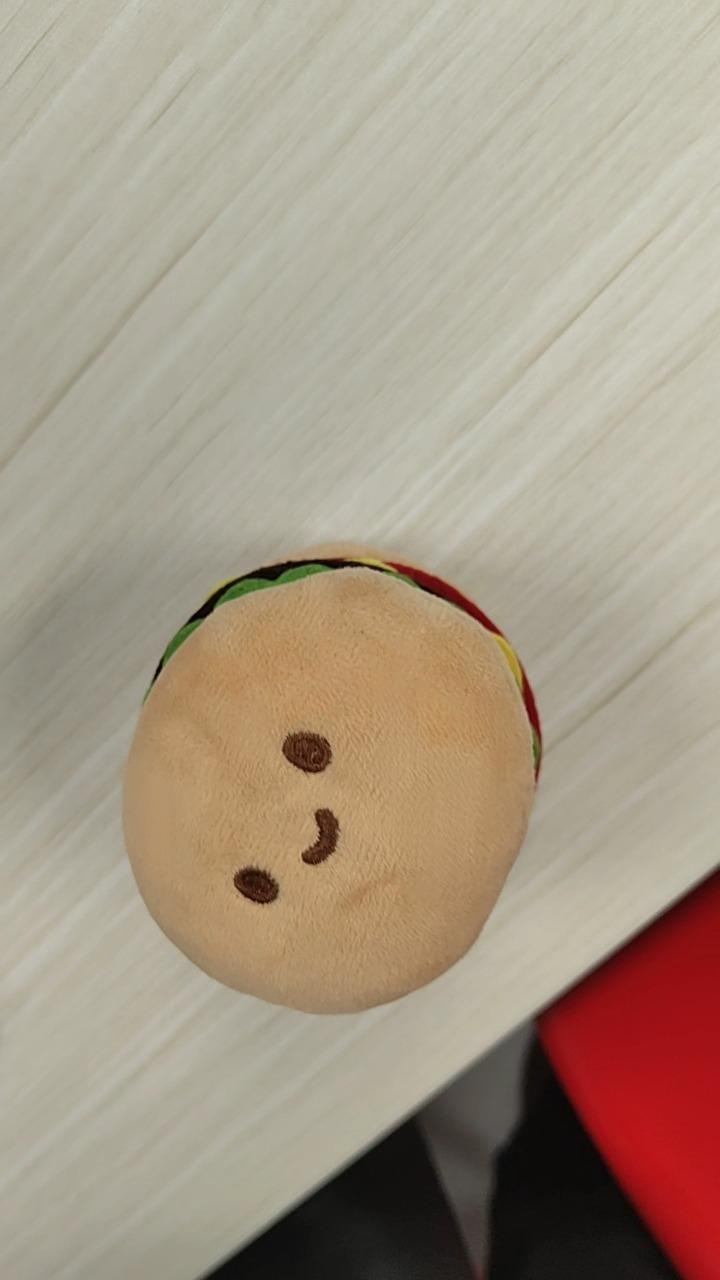hamburger: (119, 541, 543, 1016)
